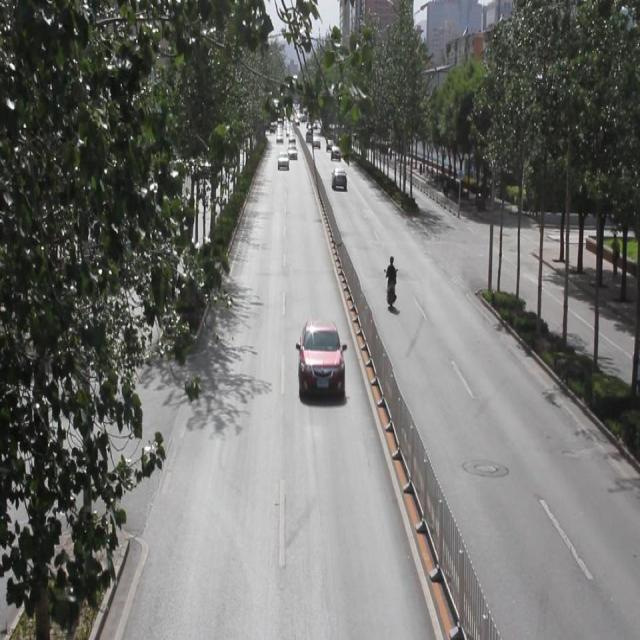car: (294, 319, 345, 398), (330, 166, 347, 187), (277, 152, 289, 170), (330, 142, 341, 160), (287, 144, 298, 161)
